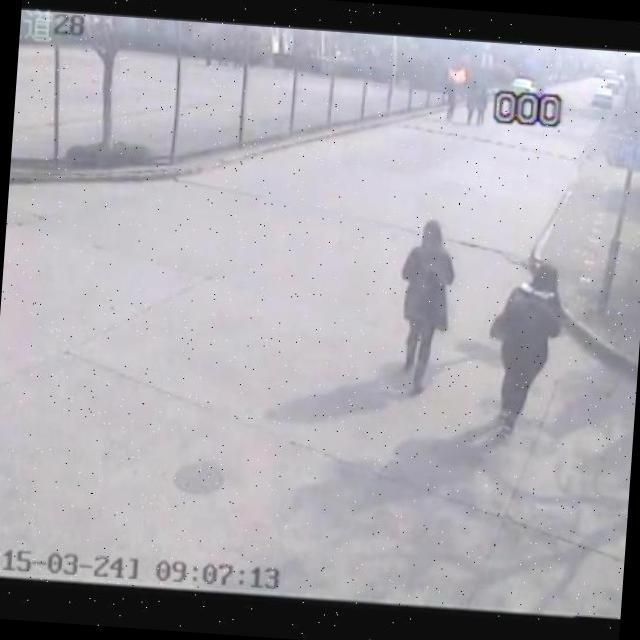person: (480, 254, 573, 445), (394, 214, 456, 401)
